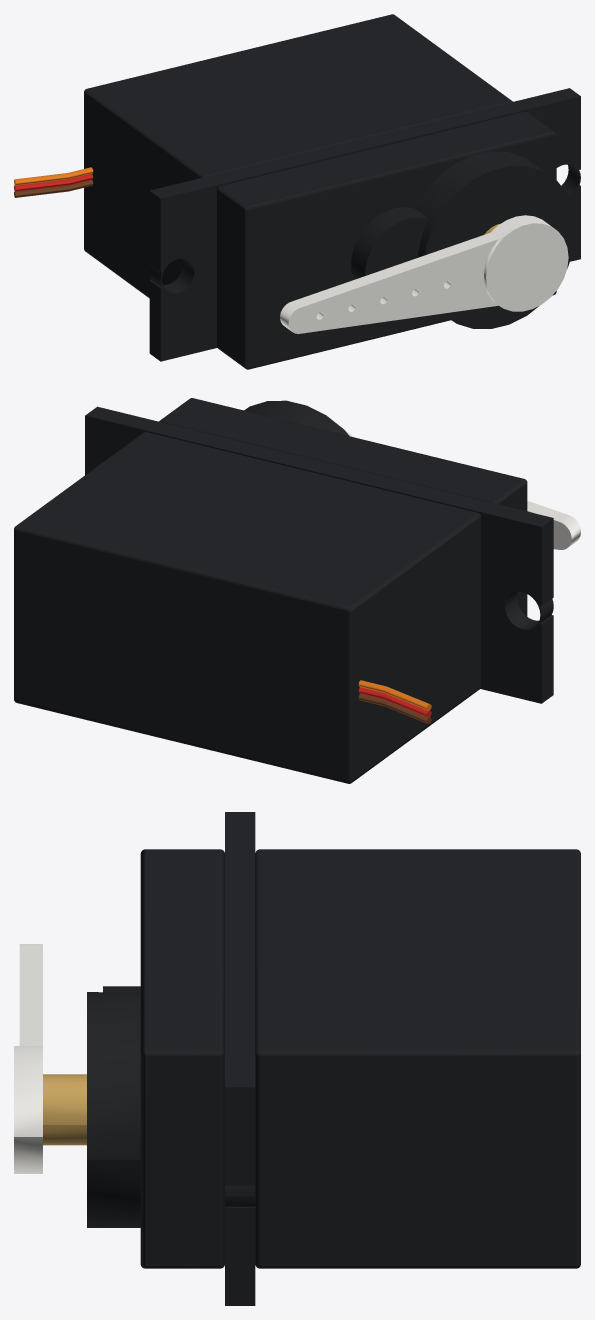
Rendered from dsservo-ds3218.glb.
The picture shows the model from 3 angles, top to bottom: view 1: azimuth 30°, elevation 25°; view 2: azimuth 150°, elevation 25°; view 3: azimuth 270°, elevation 25°; orthographic projection. The views are drawn at different scales.
Visible parts, largest first — view 1: body, body_top, tabs, horn, gear_tower, mount_hole_1, cable_3, cable_1, cable_2; view 2: body, tabs, body_top, gear_tower, horn, mount_hole_1, cable_3, cable_1, cable_2; view 3: body, body_top, tabs, gear_tower, horn, spline, mount_hole_2.
Boxes of the visible parts, bbox=[...] form: body: bbox=[84, 14, 512, 298]; body_top: bbox=[216, 111, 556, 369]; tabs: bbox=[149, 88, 580, 361]; horn: bbox=[280, 215, 568, 333]; gear_tower: bbox=[351, 151, 576, 328]; mount_hole_1: bbox=[149, 257, 195, 294]; cable_3: bbox=[14, 167, 93, 185]; cable_1: bbox=[14, 180, 93, 197]; cable_2: bbox=[14, 173, 93, 191]; body: bbox=[14, 432, 480, 783]; tabs: bbox=[85, 406, 553, 703]; body_top: bbox=[159, 398, 527, 616]; gear_tower: bbox=[244, 400, 349, 436]; horn: bbox=[342, 427, 580, 549]; mount_hole_1: bbox=[503, 590, 553, 630]; cable_3: bbox=[358, 680, 431, 710]; cable_1: bbox=[358, 694, 431, 724]; cable_2: bbox=[358, 687, 431, 717]; body: bbox=[255, 849, 580, 1268]; body_top: bbox=[140, 849, 224, 1268]; tabs: bbox=[225, 812, 255, 1305]; gear_tower: bbox=[87, 986, 140, 1227]; horn: bbox=[14, 944, 42, 1173]; spline: bbox=[43, 1074, 86, 1145]; mount_hole_2: bbox=[225, 1185, 255, 1206].
Size of the model in its own units: 56.09 by 20.05 by 47.
